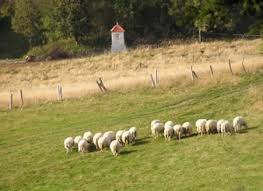sheep: (228, 115, 247, 133), (159, 121, 174, 141), (98, 131, 115, 148), (149, 118, 162, 139), (106, 139, 122, 155), (213, 118, 227, 136), (90, 130, 104, 147), (194, 117, 207, 135), (113, 127, 125, 144), (62, 136, 75, 151), (171, 123, 183, 139), (77, 138, 90, 152), (182, 119, 191, 139), (82, 128, 94, 142), (127, 121, 135, 141), (206, 118, 215, 135), (72, 134, 82, 146), (122, 128, 130, 143)
